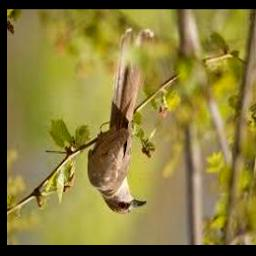Cuckoo: (87, 29, 153, 215)
